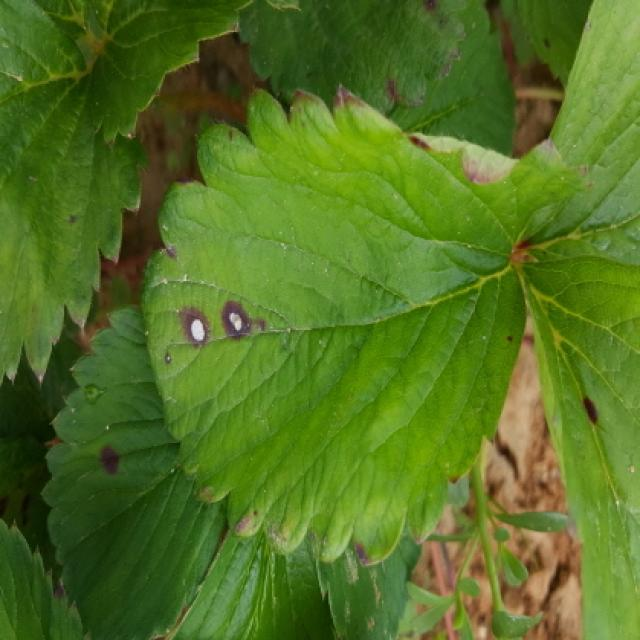Leaf Spot: (140, 82, 526, 568), (42, 308, 229, 638), (2, 0, 150, 389), (514, 257, 640, 638), (511, 0, 640, 269), (236, 0, 467, 117), (2, 521, 84, 638), (501, 0, 590, 87)
